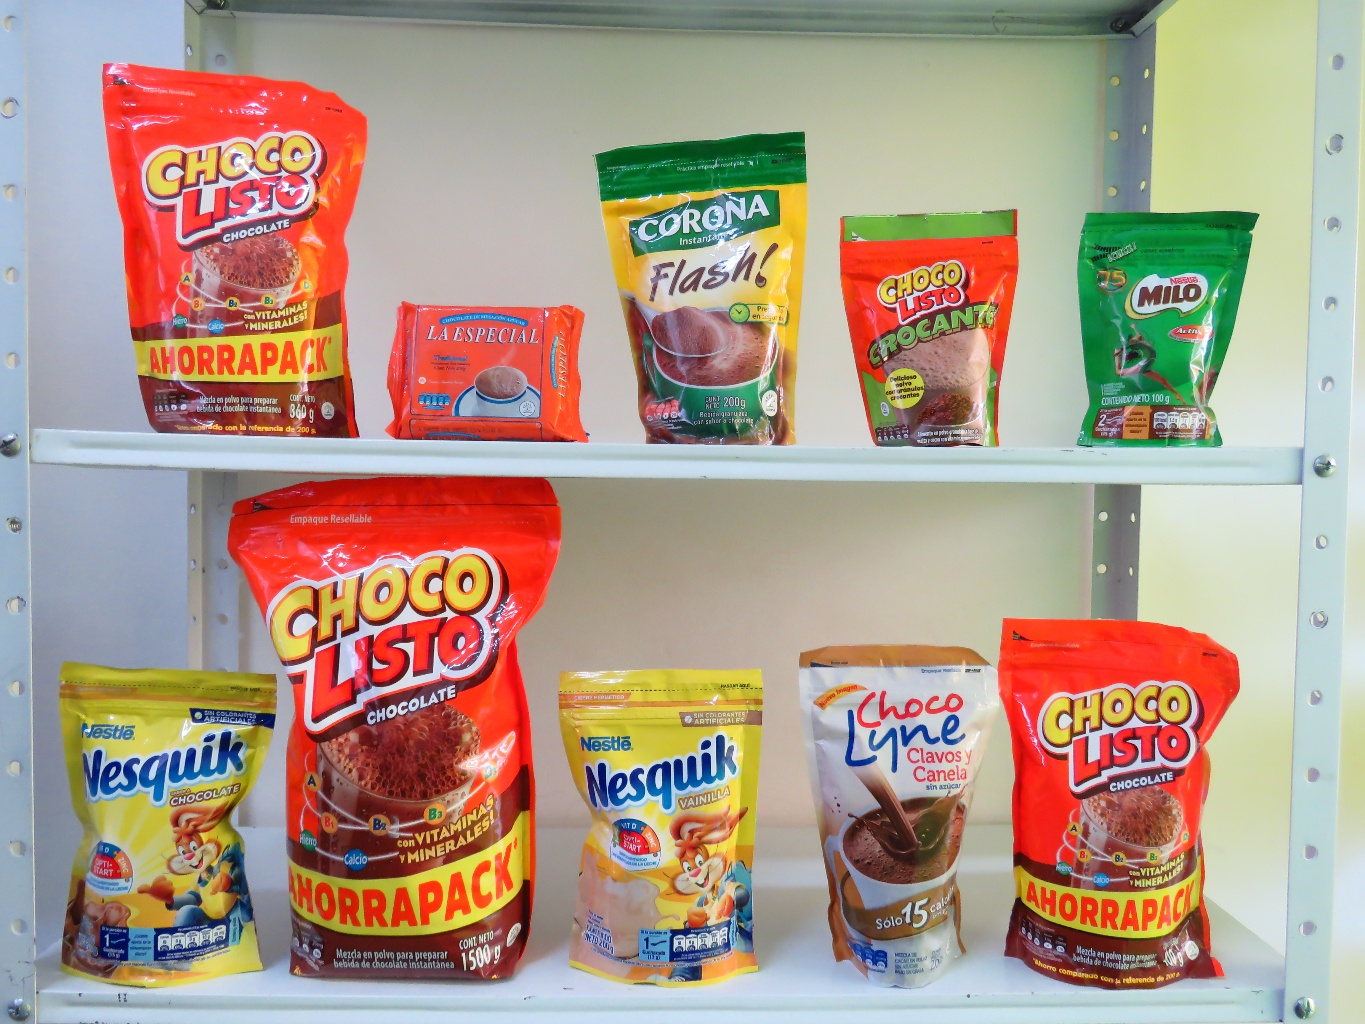COL0170102DYP10000: (833, 194, 1027, 460)
COL0170103DYP1,500: (223, 468, 567, 999)
COL0170103DYP36000: (88, 47, 371, 436)
COL0170103DYP40000: (1000, 606, 1252, 999)
COL0170203DYP10000: (1068, 207, 1255, 440)
COL0170303DYP20000: (59, 658, 285, 982)
COL0170306DYP20000: (555, 668, 784, 996)
